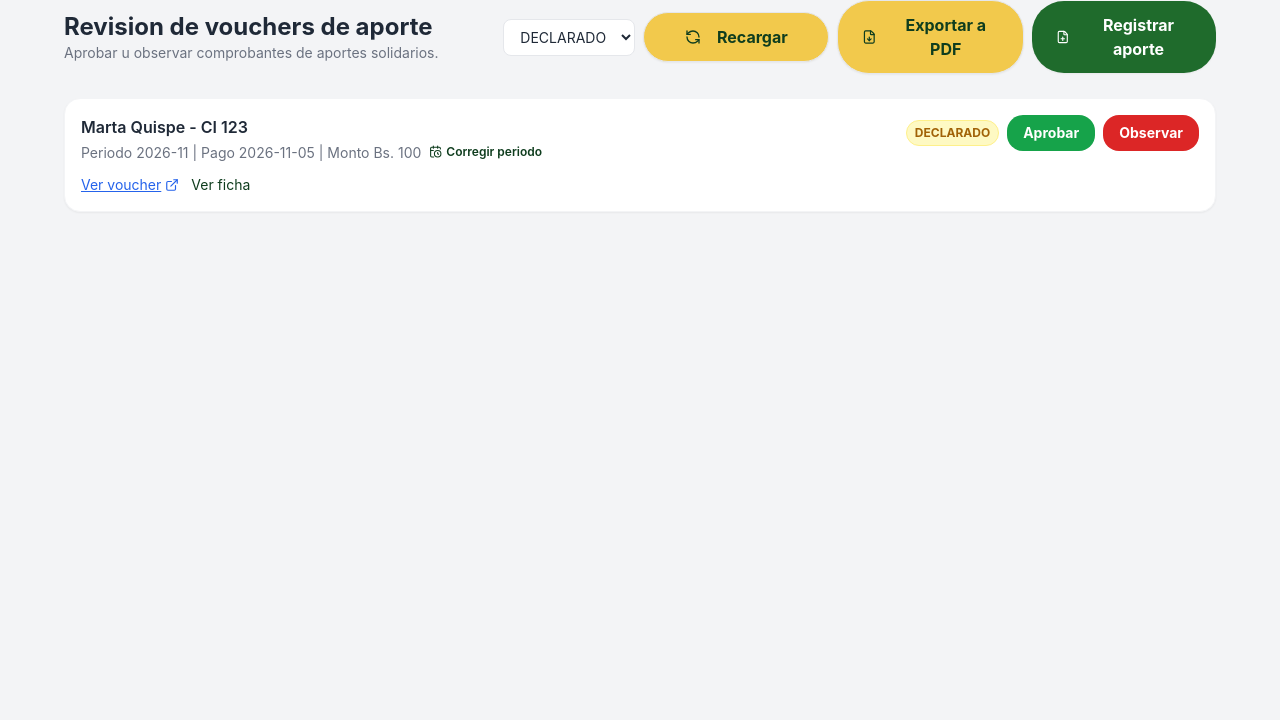
Test: Corregir el periodo de un aporte › si el periodo tiene un aporte observado, avisa y reemplaza solo cuando se confirma
Check: the text "Marta Quispe - CI 123" is shown, box 81,117 -> 248,137
Click the button "Corregir periodo" at (486, 152), box 429,144 -> 542,160
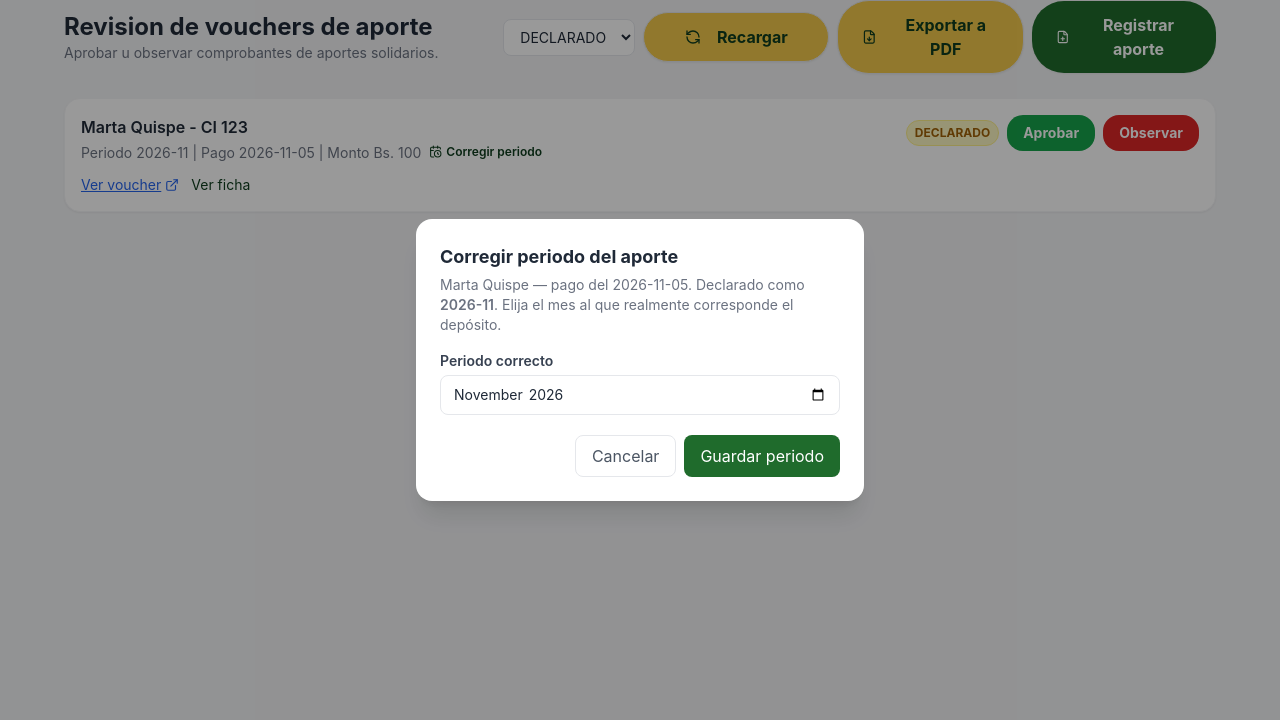
Replace the text in the field with "2026-10" at (640, 395), box 440,375 -> 840,415
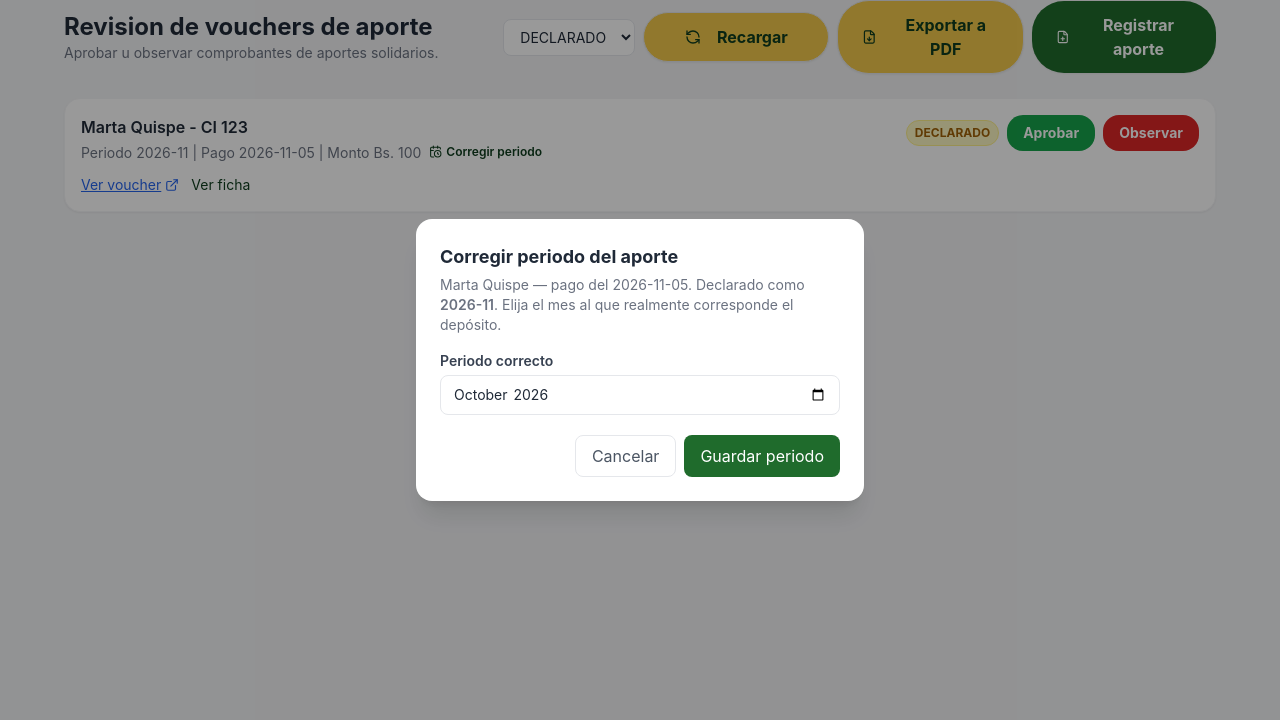
Click the button "Guardar periodo" at (762, 456), box 684,435 -> 840,477
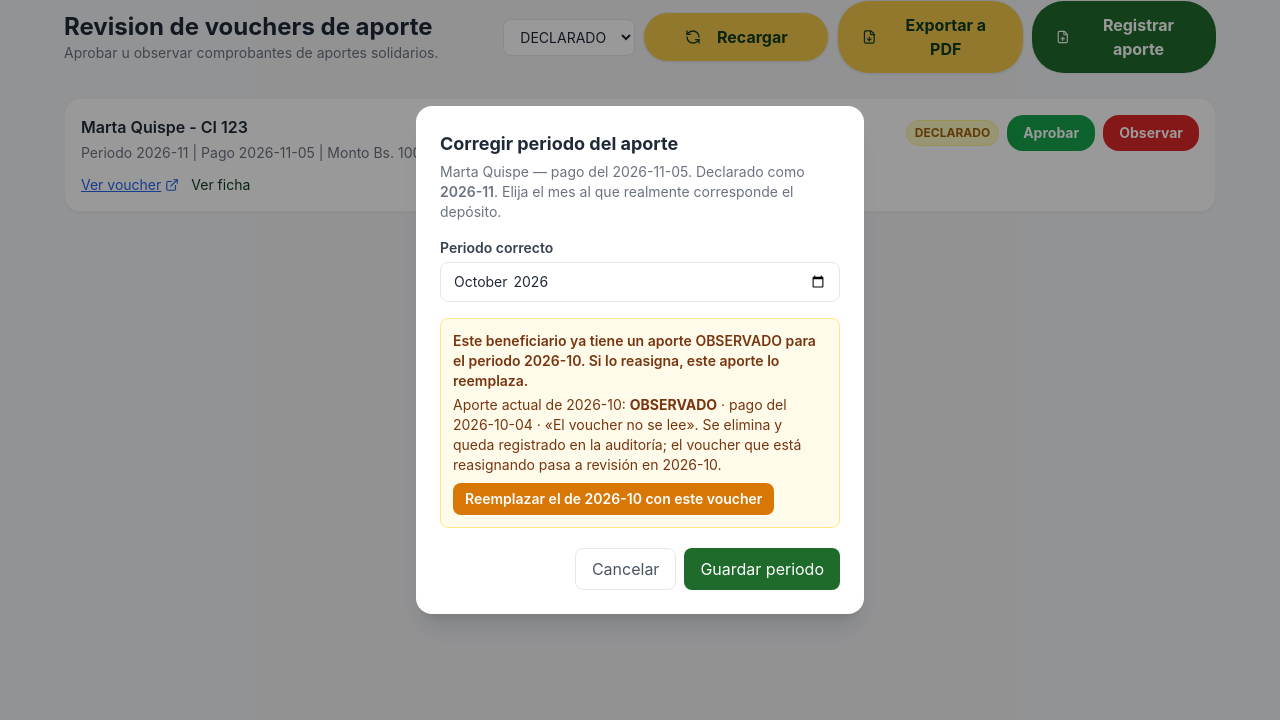
Check: the message shows "ya tiene un aporte OBSERVADO para el periodo 2026-10", box 453,332 -> 816,389
Check: the message shows "El voucher no se lee", box 533,416 -> 695,433
Click the button "Reemplazar el de 2026-10 con este voucher" at (614, 499), box 453,483 -> 774,515
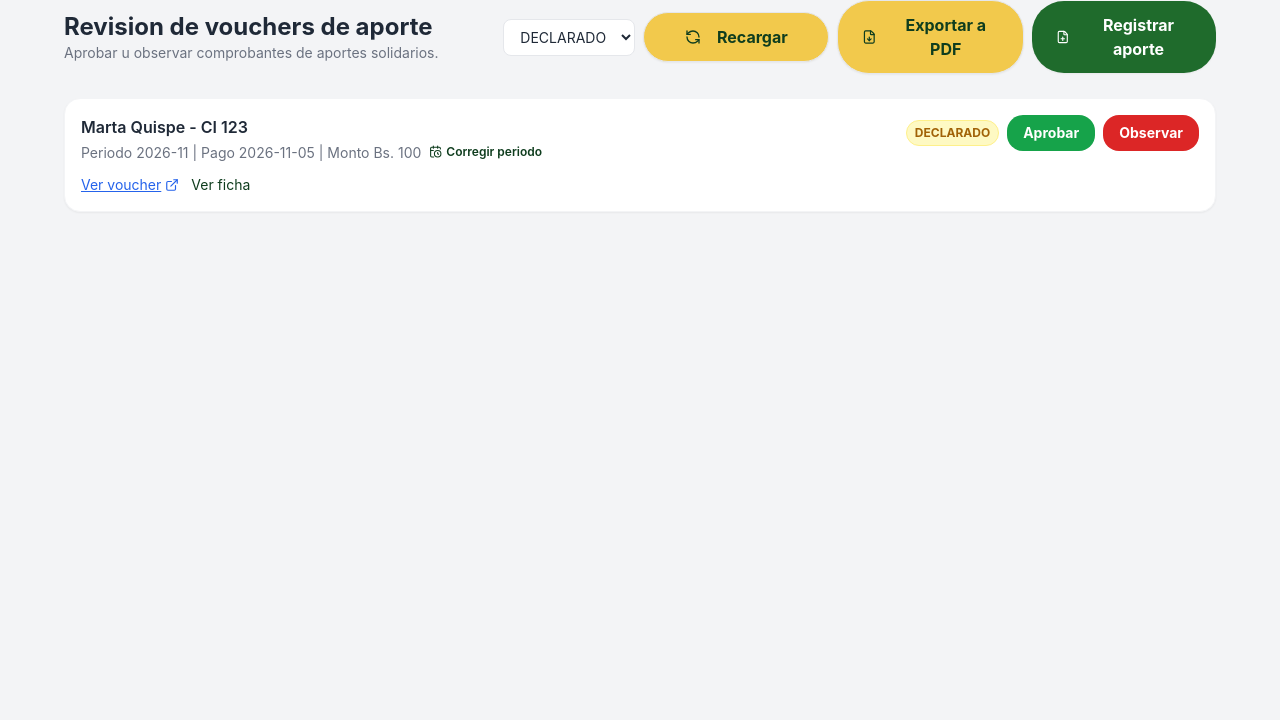
Check: the message is gone
